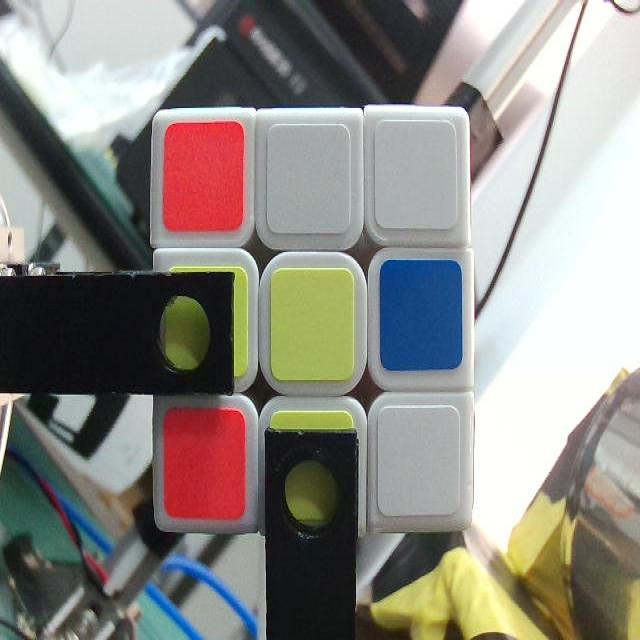b: (379, 260, 464, 368)
o: (169, 413, 245, 515), (167, 122, 241, 223)
w: (380, 409, 460, 515), (270, 126, 348, 233), (377, 126, 458, 229)
y: (270, 266, 356, 381), (274, 414, 352, 522), (168, 266, 246, 371)
